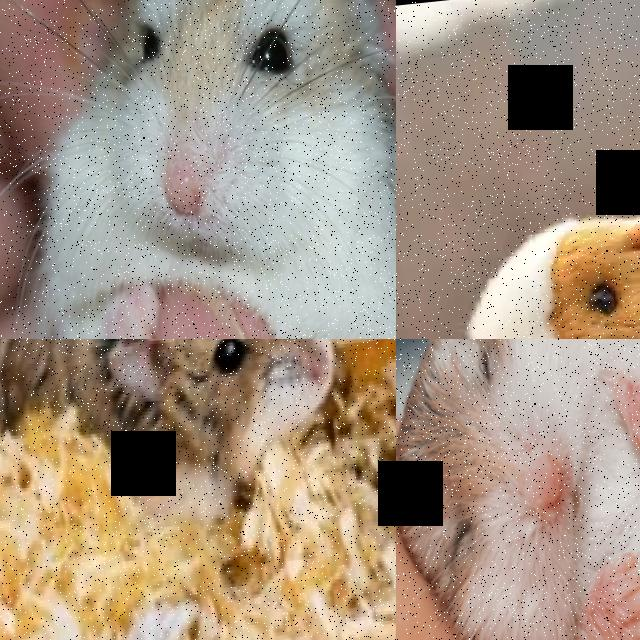hamster: (0, 0, 396, 339), (396, 339, 640, 640), (0, 339, 347, 539), (453, 181, 640, 339)
